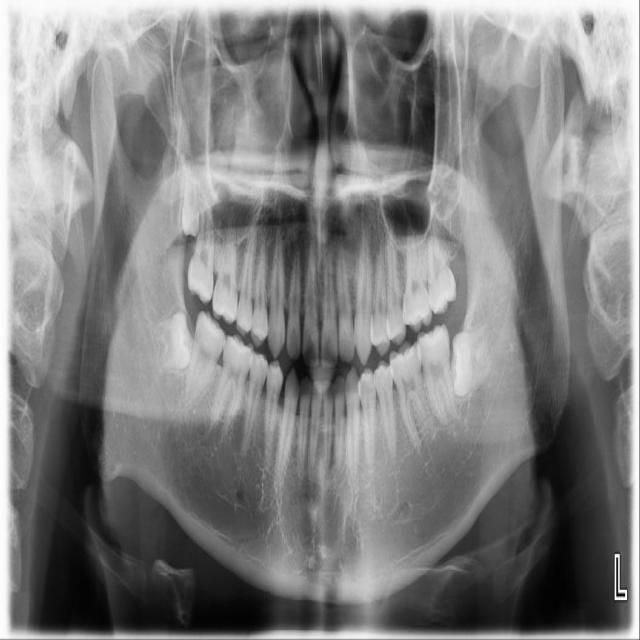3M ESPE Implant: (181, 164, 201, 237)
73: (612, 558, 620, 572)
BioHorizons Implant: (421, 192, 459, 316)
Biomet 3i Implant: (449, 322, 493, 397)
Blue Sky Bio Implant: (414, 322, 462, 428)
Caries: (186, 182, 216, 304)
Implant: (182, 308, 231, 406)
Keystone Dental Implant: (149, 310, 197, 375)
